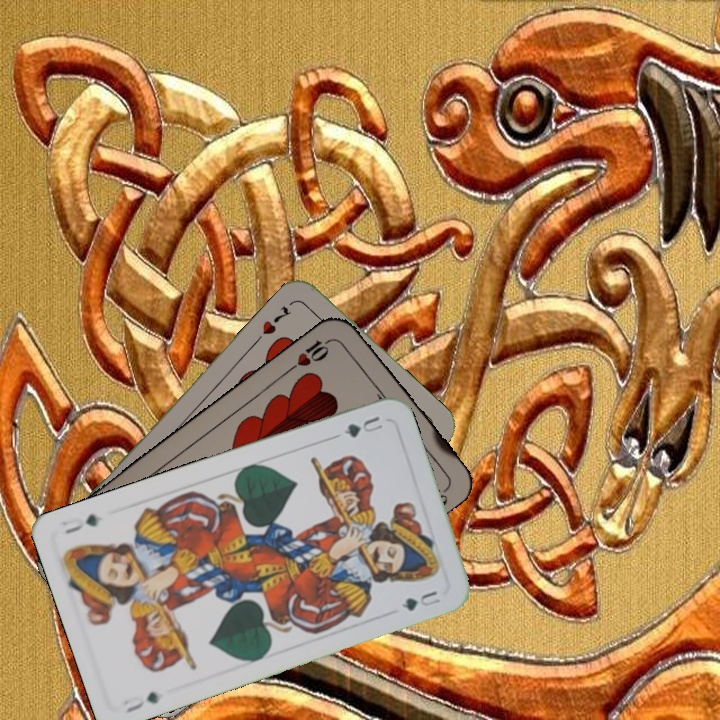GU: (340, 412, 387, 441), (117, 687, 162, 716)
H10: (285, 333, 337, 374)
H7: (258, 302, 295, 337)
